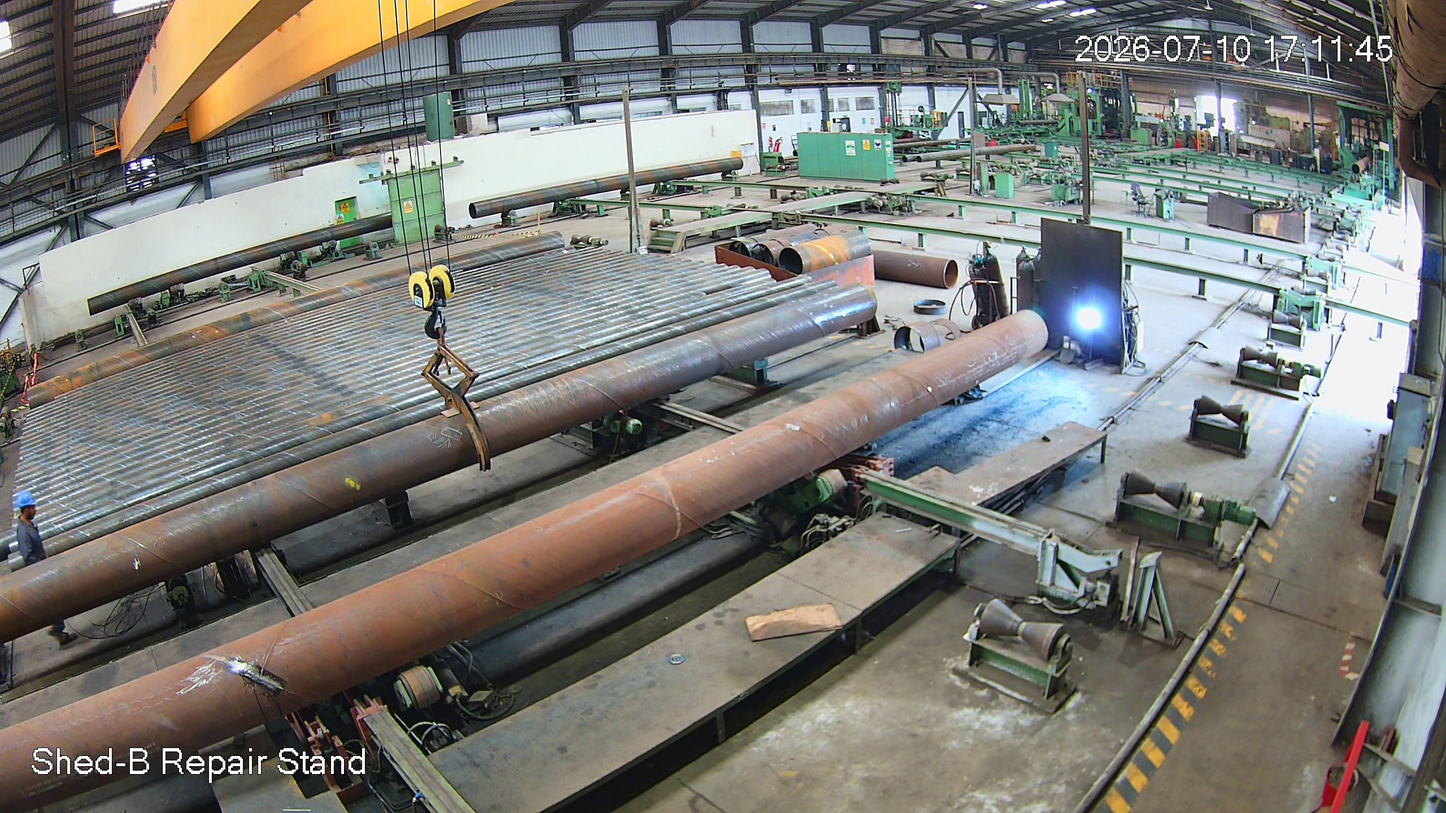Helmet: (14, 488, 50, 535)
Person: (10, 492, 64, 609)
